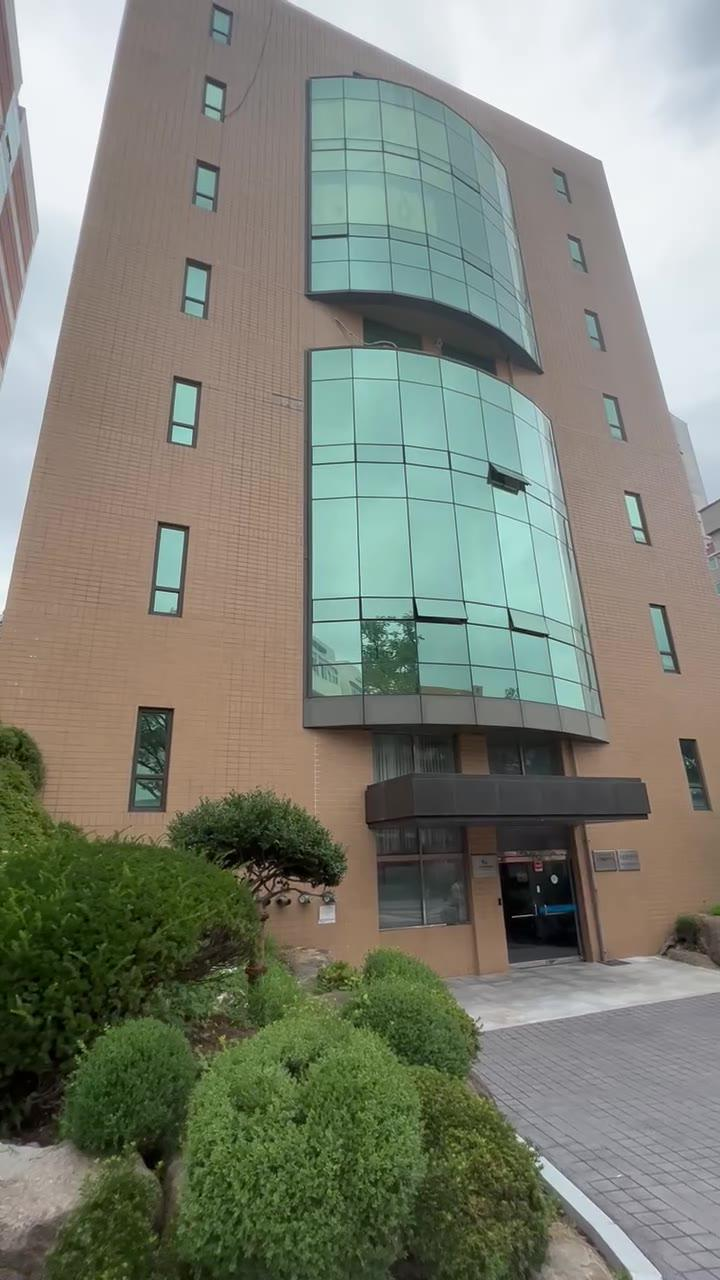building: (80, 50, 698, 820)
